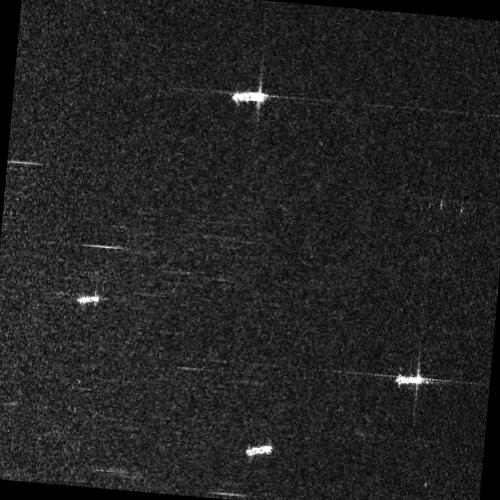ship: (231, 89, 269, 104), (245, 442, 275, 457), (393, 374, 425, 387), (77, 293, 101, 306)
